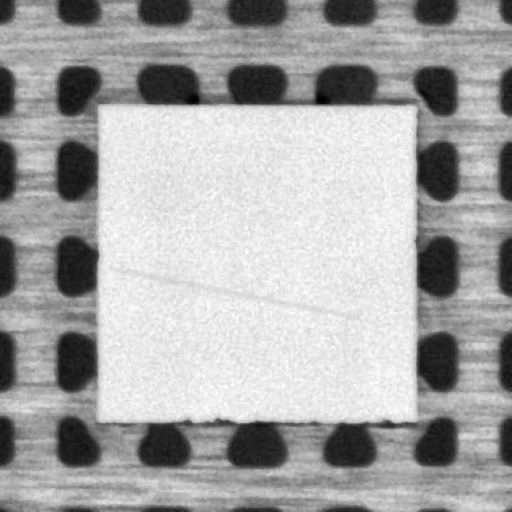DIE_CRACK: (110, 268, 356, 317)
